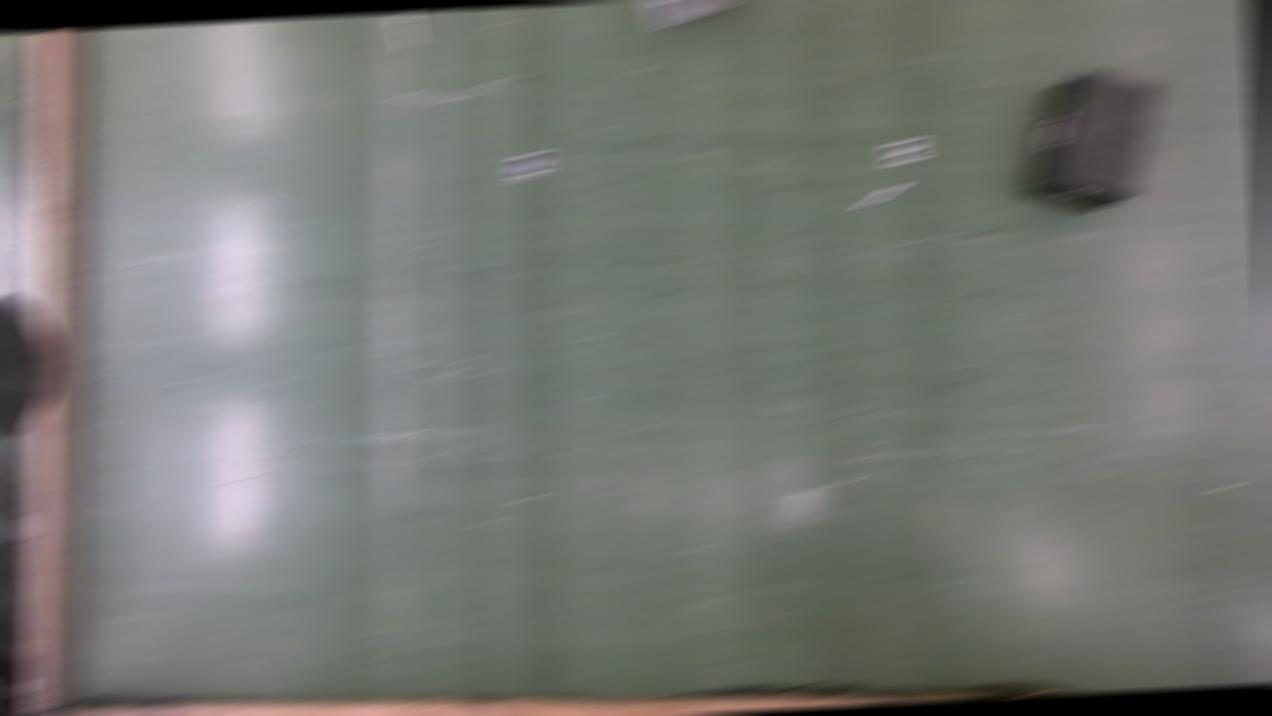probes: (857, 185, 904, 208), (391, 14, 417, 50)
rako: (1014, 68, 1167, 217), (642, 1, 738, 25)
